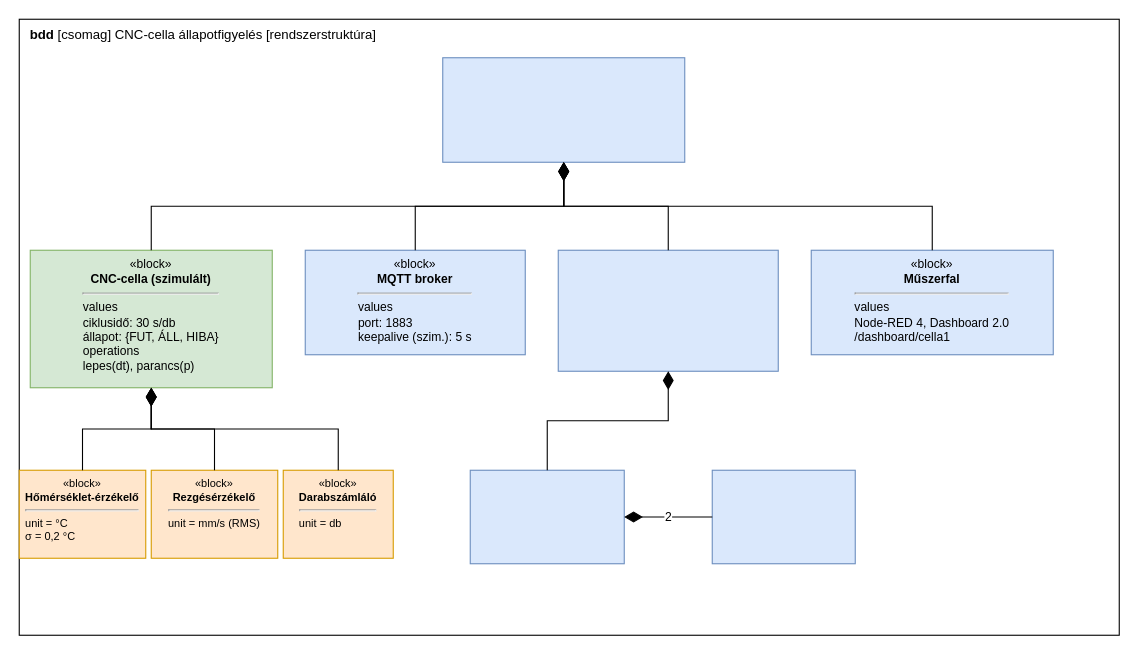
Some shapes in this 1139 by 655 pixel diagram are drawn without their labels. The box of each missing label's shape, as (x1, y1, x2, y2) in pixels:
«block» CellaFigyelo tervezett_ido, futasi_ido darab, selejt: (469, 469, 624, 564)
«block» CNC állapotfigyelő rendszer values mintavétel: 1 Hz kpi_periódus: 5 s: (442, 57, 685, 162)
«block» Feldolgozó values TIMEOUT: 5 s operations minta(m), kpi(): (557, 249, 778, 371)
«block» Hatarertek hatar, hiszterezis aktiv: bool: (711, 469, 855, 564)
